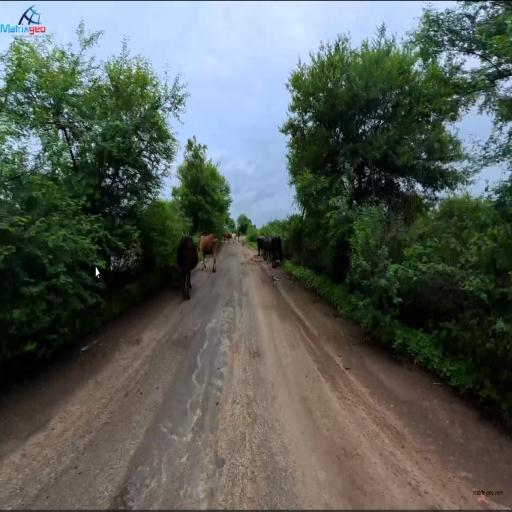ravelling: (207, 327, 263, 478)
